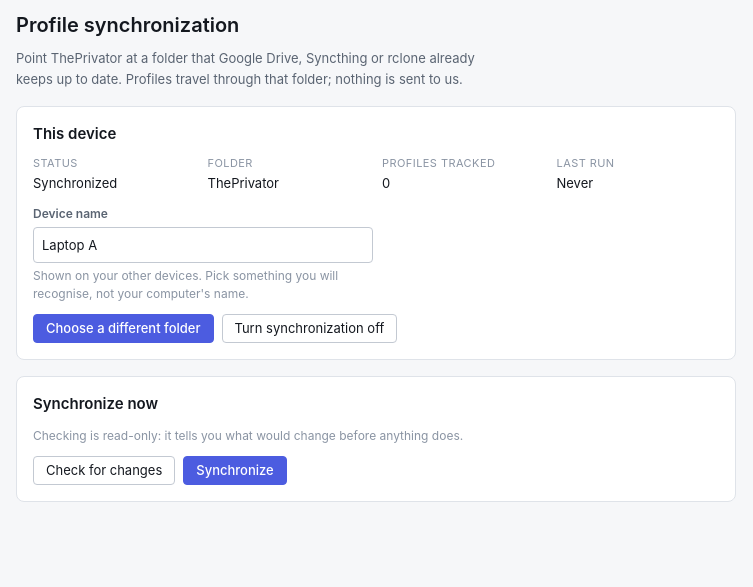
Test: SyncSettings › checks for changes without applying them
The image size is (753, 587).
Click the button "Check for changes". click: (104, 470)
box: [33,456,175,485]
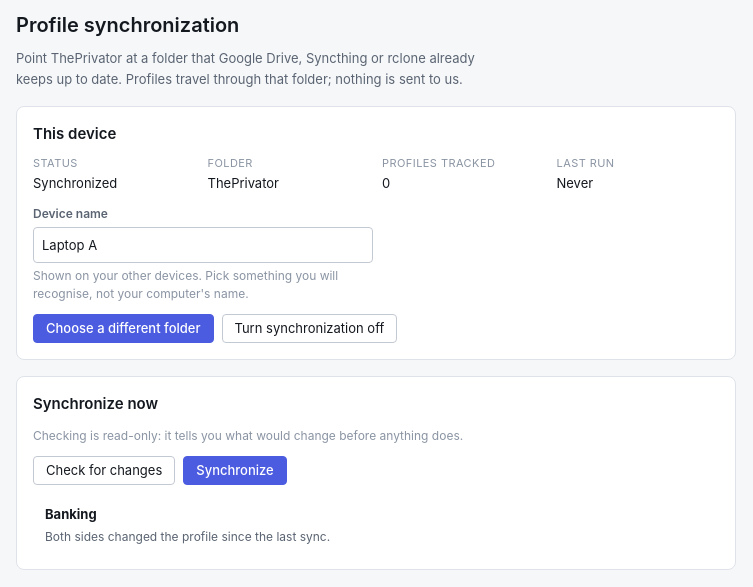
Result: the text "Banking" is shown at [45,506,97,522]
